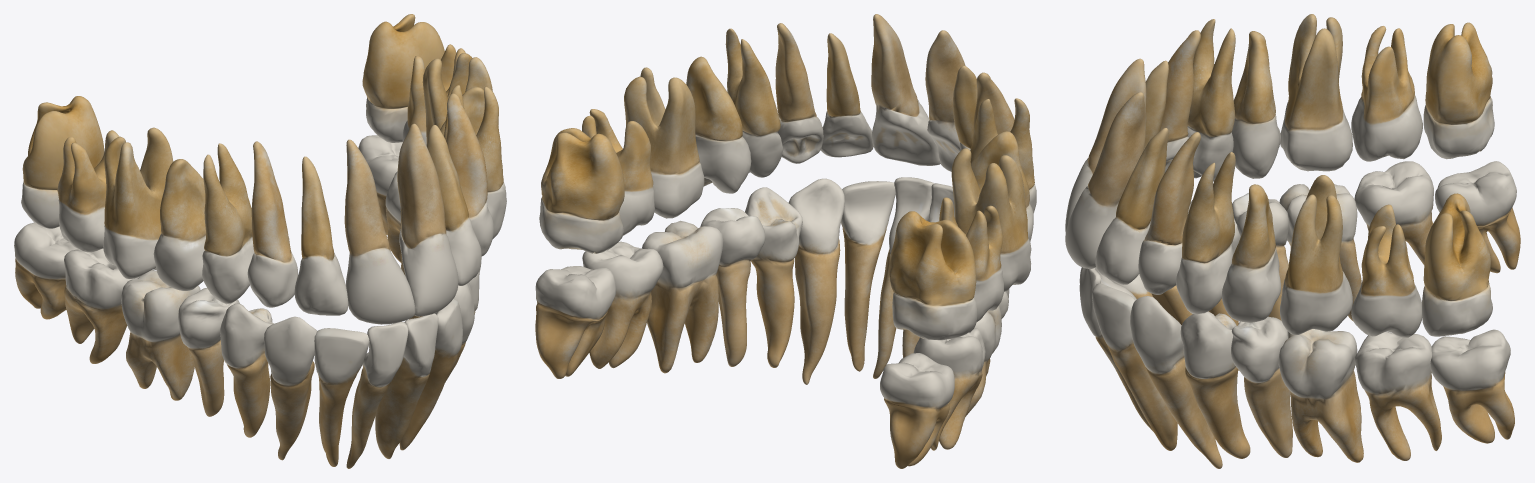
Rendered from lose-teeths.fbx.
3 renders of one model, left to right at view 1: azimuth 30°, elevation 25°; view 2: azimuth 150°, elevation 25°; view 3: azimuth 270°, elevation 25°, orthographic. The views are drawn at different scales.
Visible parts, largest first — view 1: Maxillary_teeth.010, Maxillary_teeth.013, Maxillary_teeth.004, Mandibular_teeth.006, Maxillary_teeth.001, Maxillary_teeth.011, Maxillary_teeth.005, Maxillary_teeth, Mandibular_teeth.007, Maxillary_teeth.002, Maxillary_teeth.003, Mandibular_teeth.002 (+17 smaller); view 2: Maxillary_teeth.005, Maxillary_teeth.011, Mandibular_teeth.014, Maxillary_teeth.012, Mandibular_teeth.010, Mandibular_teeth.013, Maxillary_teeth.010, Mandibular_teeth.008, Mandibular_teeth.005, Mandibular_teeth.012, Maxillary_teeth.013, Mandibular_teeth.015 (+16 smaller); view 3: Maxillary_teeth.013, Mandibular_teeth.014, Maxillary_teeth.012, Maxillary_teeth.011, Maxillary_teeth.005, Mandibular_teeth.015, Mandibular_teeth.013, Maxillary_teeth.015, Maxillary_teeth.007, Maxillary_teeth.014, Maxillary_teeth.010, Mandibular_teeth.012 (+17 smaller).
Part boxes in pixels (x1=…): Maxillary_teeth.010: x1=397, y1=123, x2=458, y2=316; Maxillary_teeth.013: x1=103, y1=127, x2=173, y2=278; Maxillary_teeth.004: x1=344, y1=139, x2=415, y2=324; Mandibular_teeth.006: x1=121, y1=270, x2=200, y2=400; Maxillary_teeth.001: x1=202, y1=143, x2=254, y2=304; Maxillary_teeth.011: x1=362, y1=14, x2=444, y2=142; Maxillary_teeth.005: x1=21, y1=96, x2=104, y2=228; Maxillary_teeth: x1=153, y1=159, x2=205, y2=290; Mandibular_teeth.007: x1=64, y1=248, x2=140, y2=363; Maxillary_teeth.002: x1=247, y1=141, x2=297, y2=307; Maxillary_teeth.003: x1=294, y1=156, x2=348, y2=315; Mandibular_teeth.002: x1=264, y1=316, x2=316, y2=460; Maxillary_teeth.005: x1=888, y1=211, x2=977, y2=340; Maxillary_teeth.011: x1=539, y1=128, x2=624, y2=253; Mandibular_teeth.014: x1=641, y1=220, x2=723, y2=373; Maxillary_teeth.012: x1=624, y1=67, x2=704, y2=218; Mandibular_teeth.010: x1=788, y1=178, x2=844, y2=384; Mandibular_teeth.013: x1=535, y1=266, x2=616, y2=378; Maxillary_teeth.010: x1=871, y1=14, x2=940, y2=165; Mandibular_teeth.008: x1=841, y1=181, x2=895, y2=371; Mandibular_teeth.005: x1=880, y1=353, x2=954, y2=468; Mandibular_teeth.012: x1=745, y1=187, x2=802, y2=367; Maxillary_teeth.013: x1=951, y1=148, x2=1031, y2=291; Mandibular_teeth.015: x1=582, y1=241, x2=663, y2=368; Maxillary_teeth.013: x1=1280, y1=14, x2=1352, y2=171; Mandibular_teeth.014: x1=1278, y1=329, x2=1363, y2=462; Maxillary_teeth.012: x1=1280, y1=175, x2=1352, y2=335; Maxillary_teeth.011: x1=1422, y1=193, x2=1492, y2=336; Maxillary_teeth.005: x1=1423, y1=22, x2=1494, y2=159; Mandibular_teeth.015: x1=1354, y1=331, x2=1441, y2=460; Mandibular_teeth.013: x1=1430, y1=329, x2=1514, y2=443; Maxillary_teeth.015: x1=1351, y1=26, x2=1422, y2=161; Maxillary_teeth.007: x1=1176, y1=152, x2=1235, y2=314; Maxillary_teeth.014: x1=1351, y1=204, x2=1422, y2=337; Maxillary_teeth.010: x1=1065, y1=92, x2=1146, y2=269; Mandibular_teeth.012: x1=1180, y1=311, x2=1250, y2=458.
Bounding box in the file's own units: 2.9 × 2.25 × 2.56.
